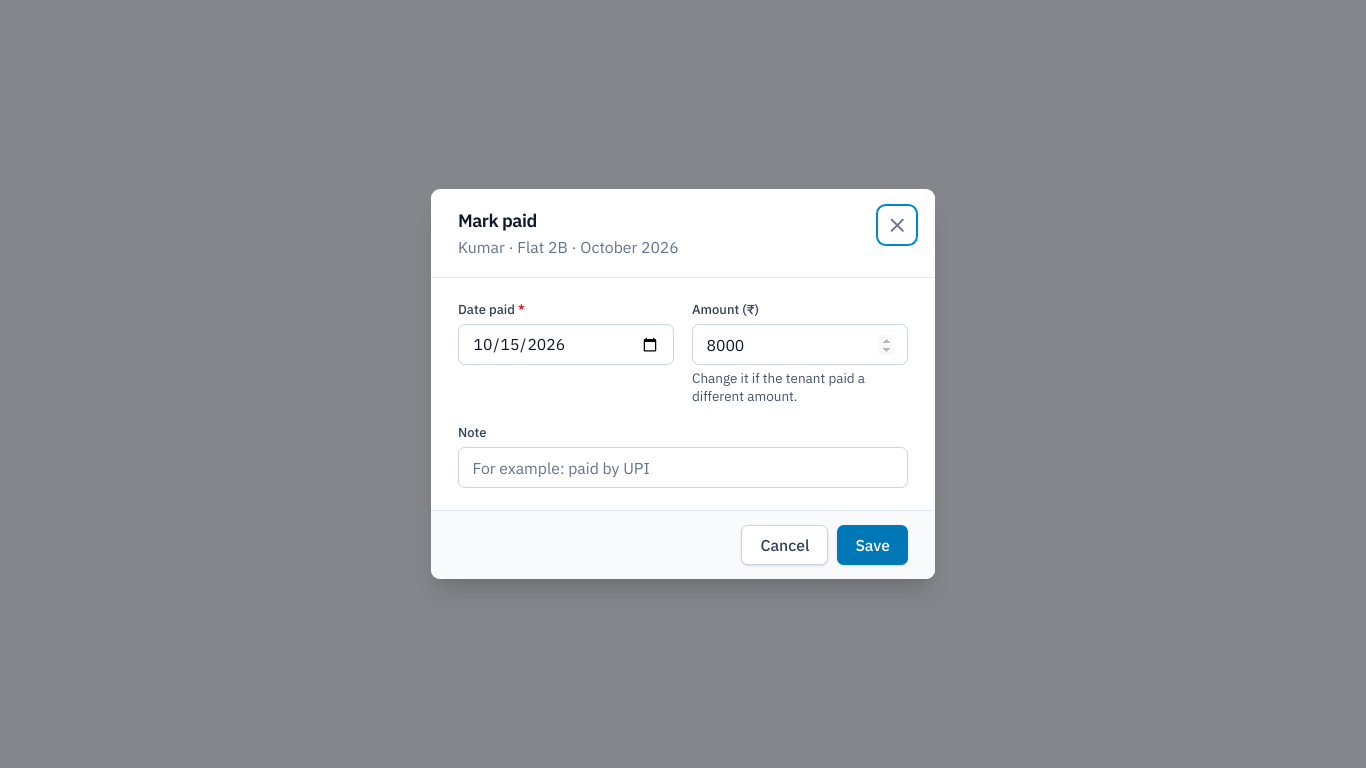
MarkPaidModal › refuses a zero amount or no date
Replace the text in the number field labelled "Amount" with "0". click: (800, 345)
box: 692,324 -> 908,365
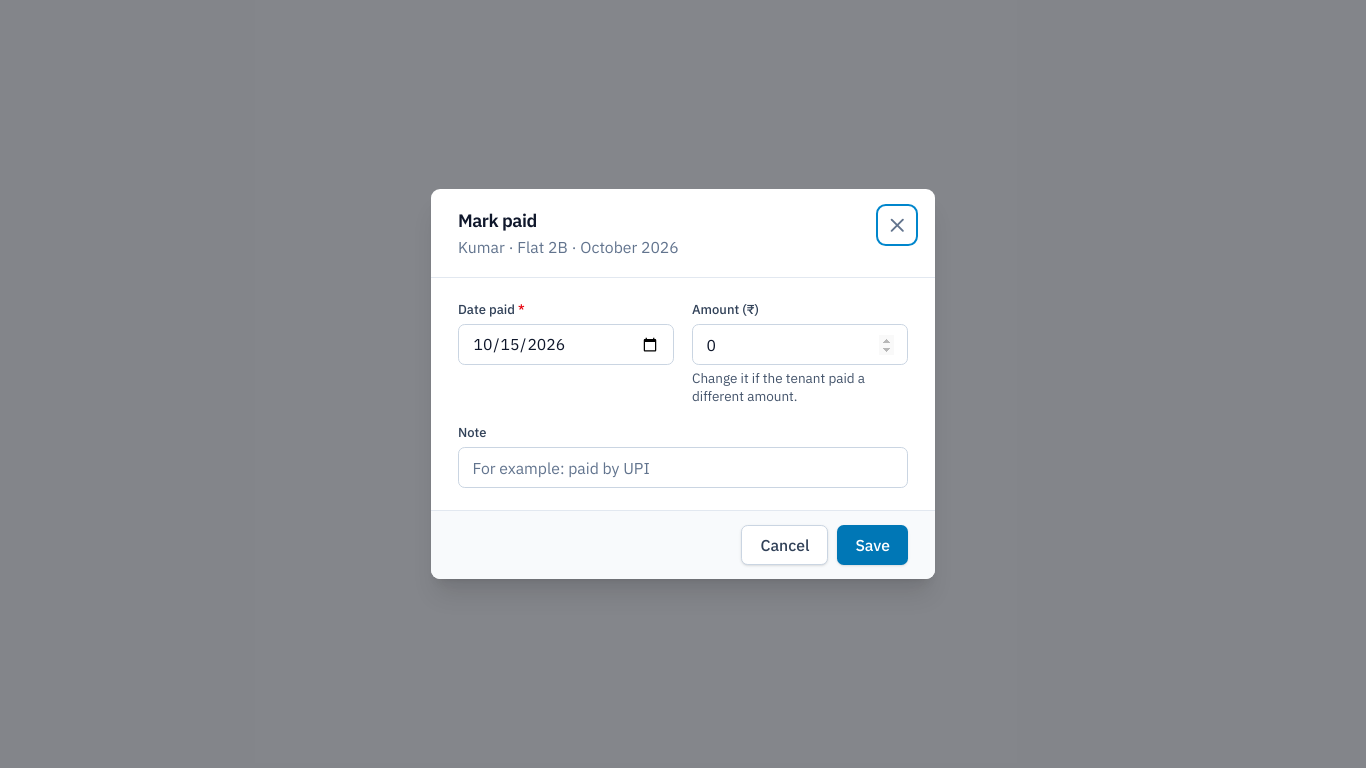
Click the button "Save". click: (873, 545)
box: 837,525 -> 908,565
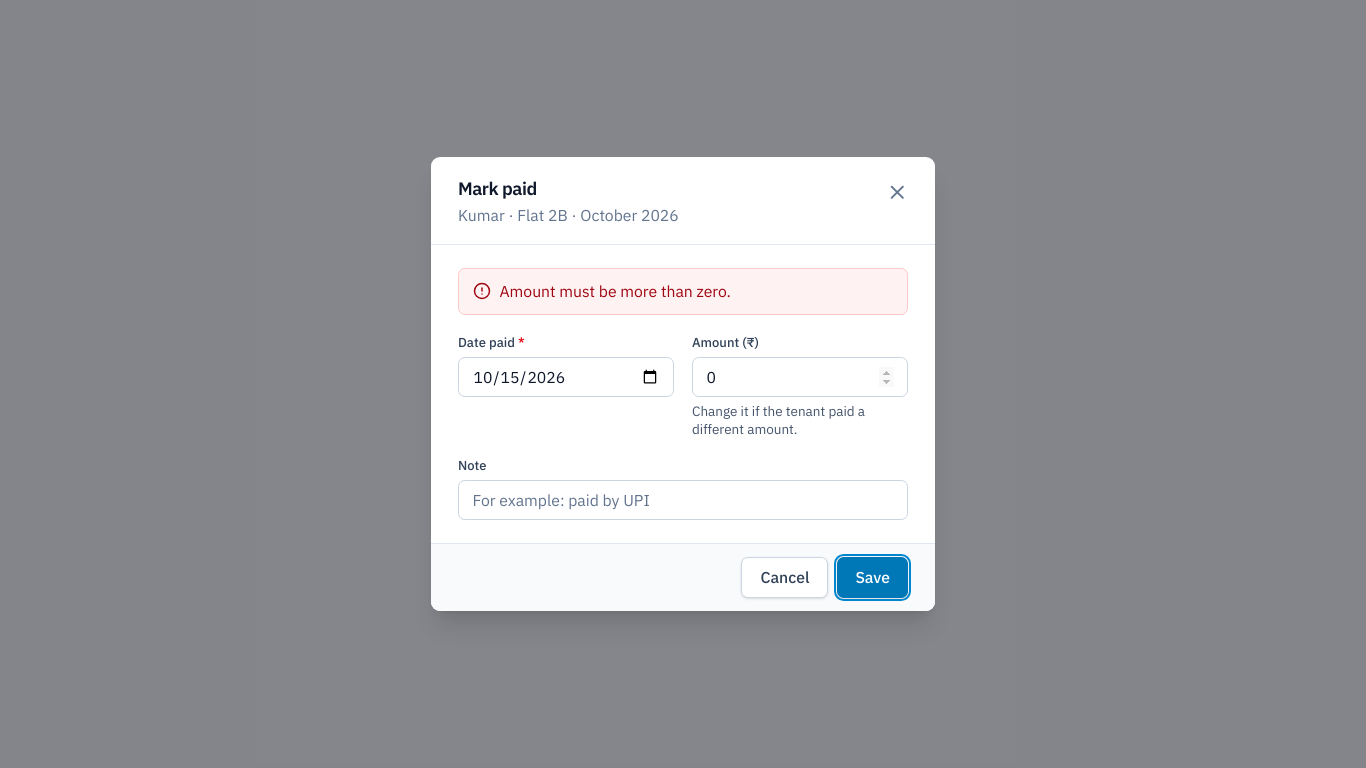
Expected: the message reads "Amount must be more than zero.", 500,281 -> 731,301
Clear the date field labelled "Date paid". click: (566, 377)
box: 458,357 -> 674,397
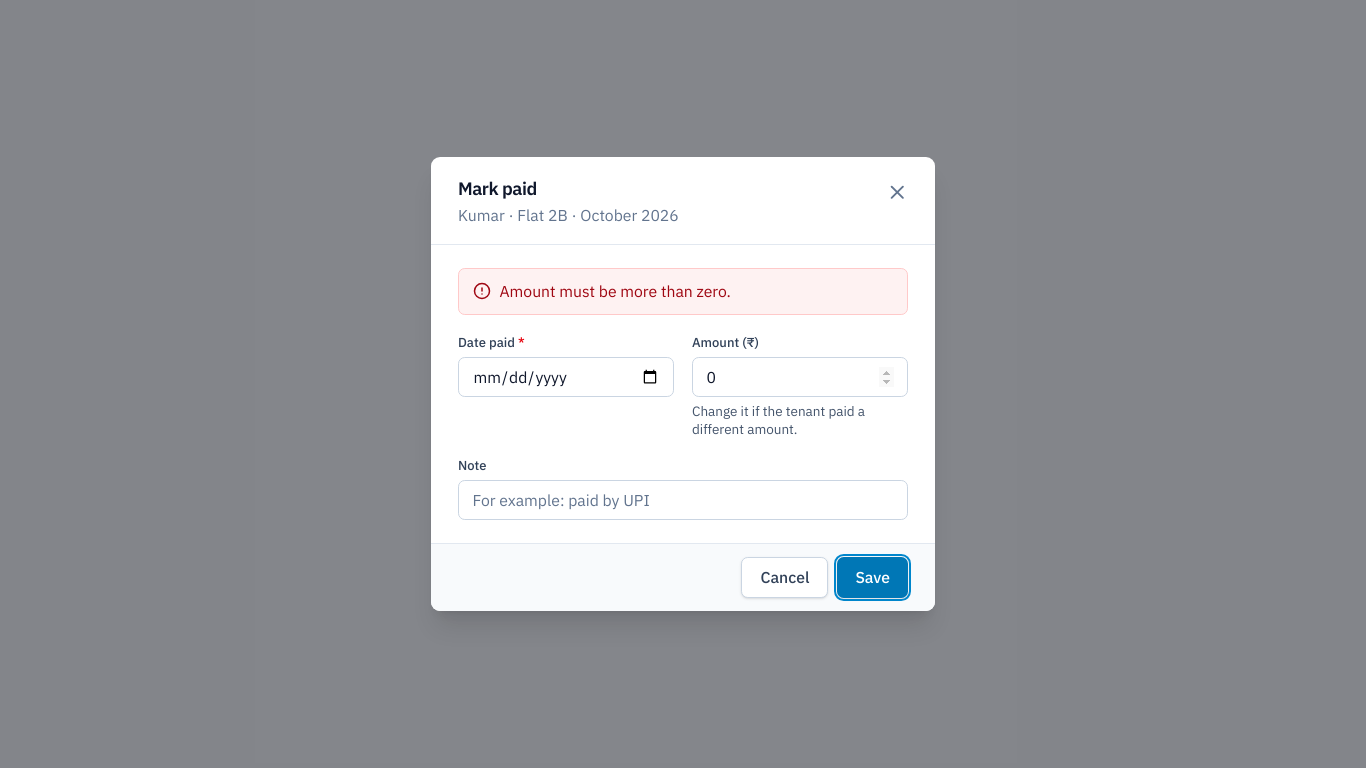
Click the button "Save". click: (873, 578)
box: 837,557 -> 908,598
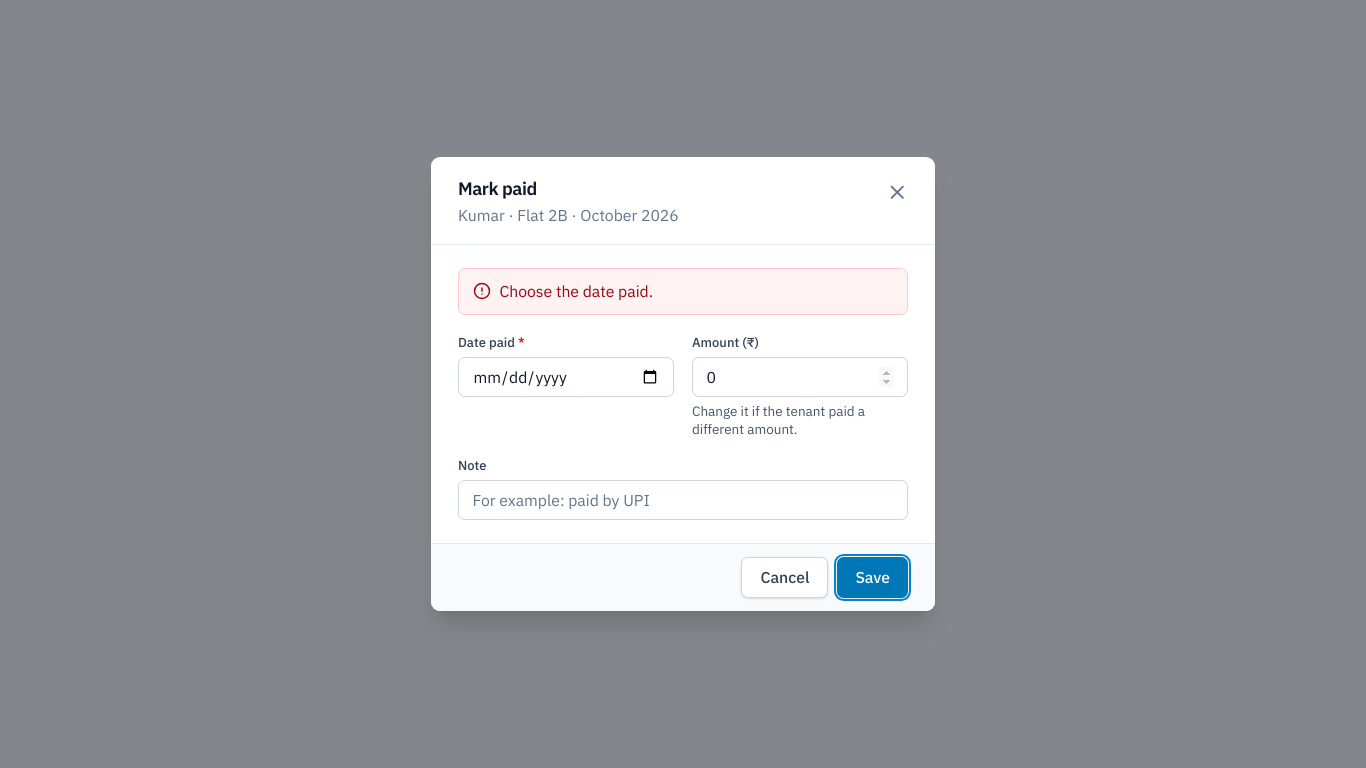
Expected: the message reads "Choose the date paid.", 500,281 -> 653,301
